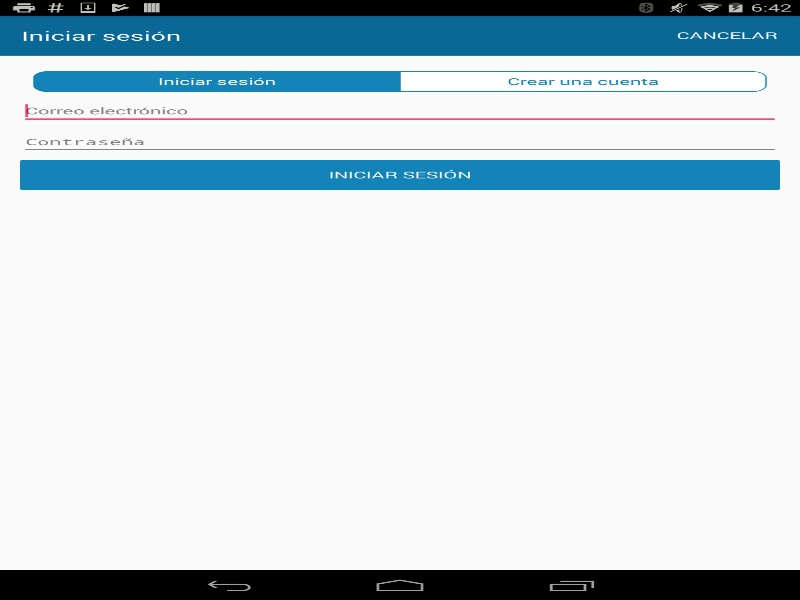Button: (20, 160, 780, 190)
Input: (20, 98, 780, 124), (20, 129, 780, 155)
